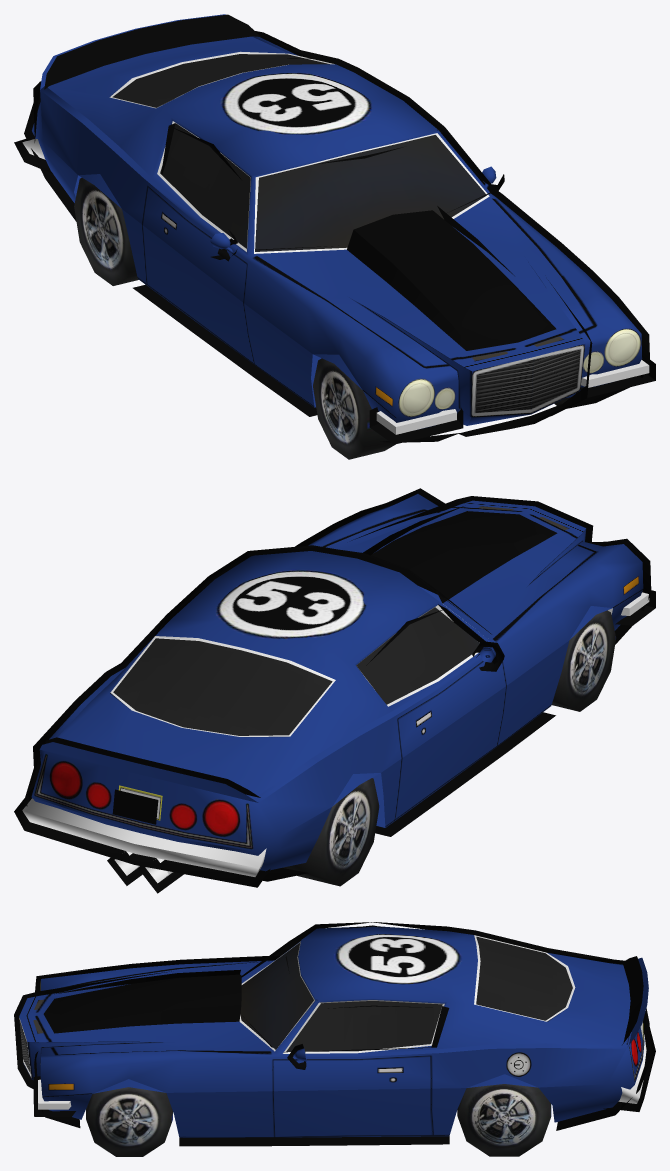
The model's file is Car4.fbx.
The picture shows the model from 3 angles, top to bottom: view 1: azimuth 30°, elevation 25°; view 2: azimuth 150°, elevation 25°; view 3: azimuth 270°, elevation 25°; orthographic projection. The views are drawn at different scales.
Parts seen in each view (by area): view 1: CarBody, Front_Right_Wheel, Rear_Right_Wheel; view 2: CarBody, Rear_Right_Wheel, Front_Right_Wheel; view 3: CarBody, Rear_Left_Wheel, Front_Left_Wheel.
Part boxes in pixels (bbox=[...]): CarBody: bbox=[14, 14, 655, 444]; Front_Right_Wheel: bbox=[313, 358, 395, 459]; Rear_Right_Wheel: bbox=[74, 177, 138, 285]; CarBody: bbox=[14, 488, 655, 893]; Rear_Right_Wheel: bbox=[282, 778, 379, 886]; Front_Right_Wheel: bbox=[551, 610, 615, 711]; CarBody: bbox=[14, 922, 655, 1146]; Rear_Left_Wheel: bbox=[457, 1084, 551, 1156]; Front_Left_Wheel: bbox=[86, 1087, 172, 1156].
Bounding box in the file's own units: 8.8 × 5.75 × 20.74.
